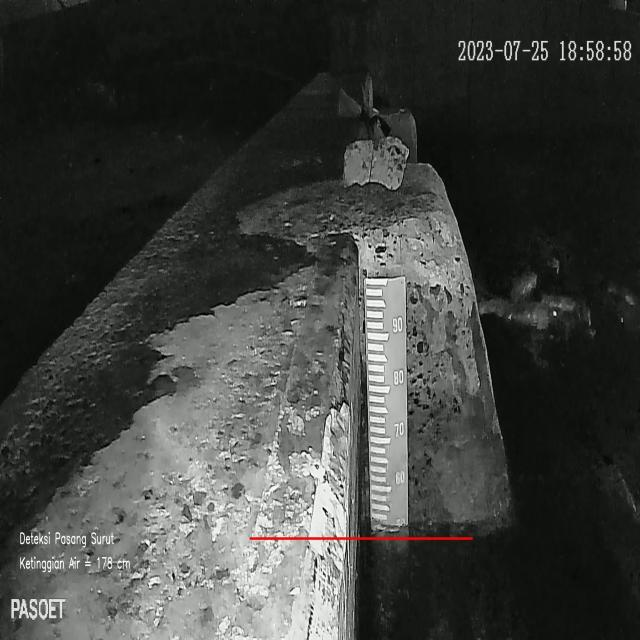60: (395, 468, 406, 487)
70: (393, 420, 405, 439)
80: (393, 368, 404, 386)
90: (392, 314, 404, 334)
staff: (364, 275, 408, 527)
